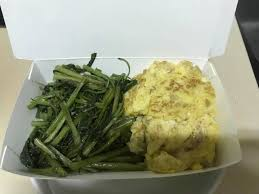kongxincai: (41, 76, 121, 167)
